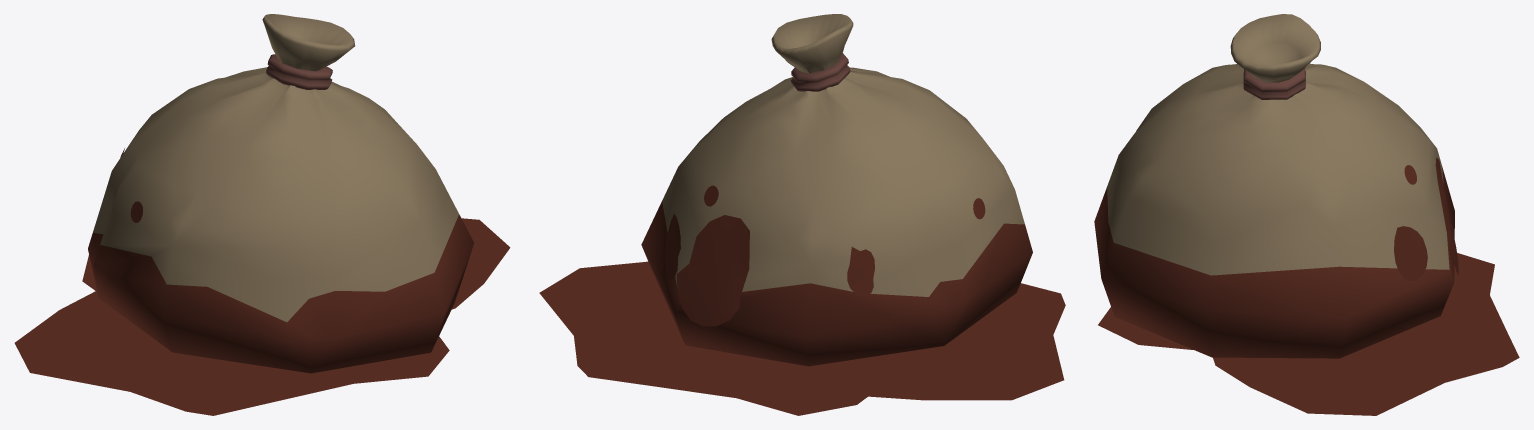
Rendered from bloodybag.fbx.
3 views of the same model, side by side, from view 1: azimuth 30°, elevation 25°; view 2: azimuth 150°, elevation 25°; view 3: azimuth 270°, elevation 25° (orthographic). The views are drawn at different scales.
Visible parts, largest first — view 1: Plane.004, Plane.001, Plane.006, Plane.005; view 2: Plane.004, Plane.006, Plane.001, Plane.003, Plane.005; view 3: Plane.004, Plane.006, Plane.003, Plane.001, Plane.005.
Part boxes in pixels (bbox=[...]): Plane.004: bbox=[88, 14, 473, 373]; Plane.001: bbox=[14, 291, 449, 415]; Plane.006: bbox=[82, 218, 510, 309]; Plane.005: bbox=[266, 54, 332, 89]; Plane.004: bbox=[641, 14, 1032, 366]; Plane.006: bbox=[539, 261, 927, 415]; Plane.001: bbox=[868, 283, 1065, 400]; Plane.003: bbox=[665, 185, 985, 326]; Plane.005: bbox=[790, 53, 850, 91]; Plane.004: bbox=[1094, 14, 1454, 358]; Plane.006: bbox=[1213, 253, 1519, 415]; Plane.003: bbox=[1394, 157, 1458, 281]; Plane.001: bbox=[1098, 307, 1193, 349]; Plane.005: bbox=[1243, 68, 1305, 99].
Bounding box in the file's own units: 107 × 61.66 × 83.94.
